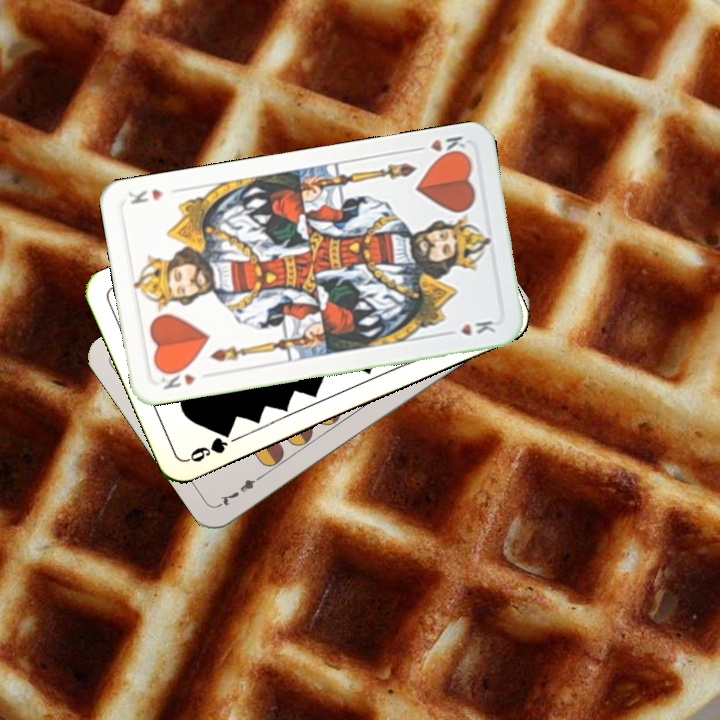E7: (215, 470, 267, 509)
G9: (183, 424, 235, 465)
HK: (410, 132, 470, 162), (157, 364, 199, 392)
